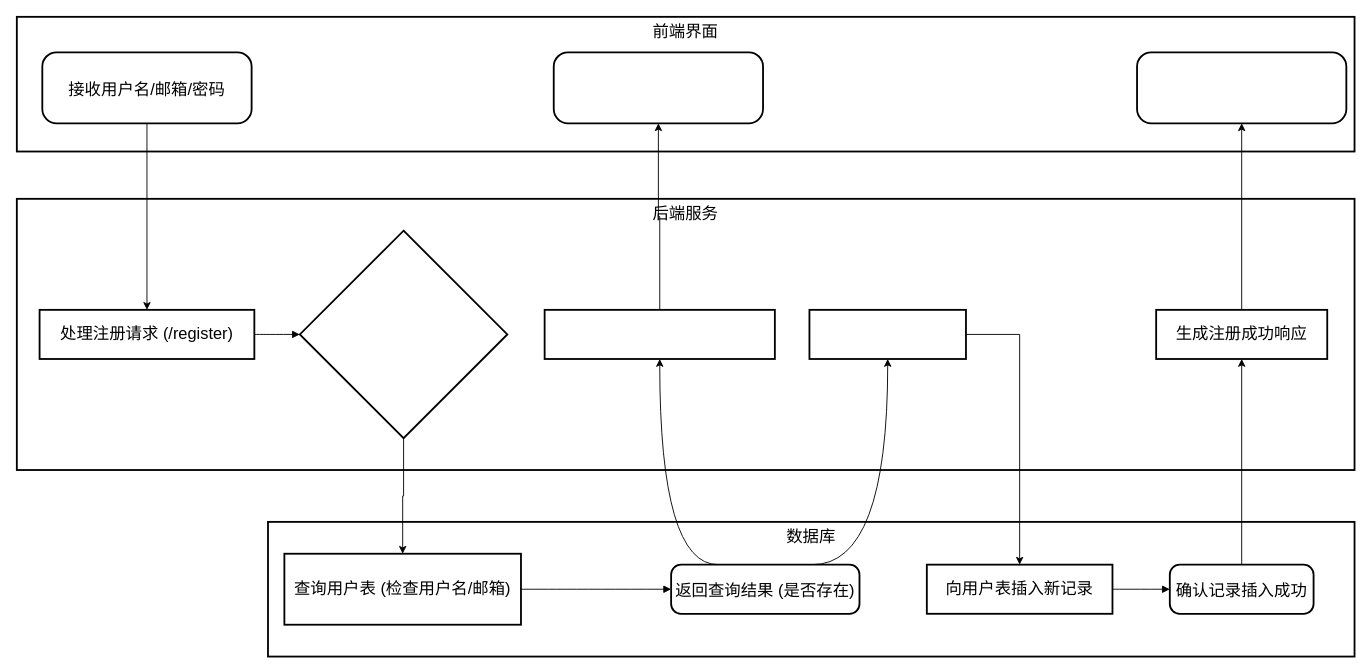
Some shapes in this 1370 by 672 pixel diagram are drawn without their labels. Each missing label, with the centre of its shape:
反馈注册失败信息: [657,87]
反馈注册成功并跳转登录页: [1241,87]
生成密码哈希值: [887,333]
生成注册失败响应 (已存在): [659,333]
用户名/邮箱是否已存在?: [403,334]
